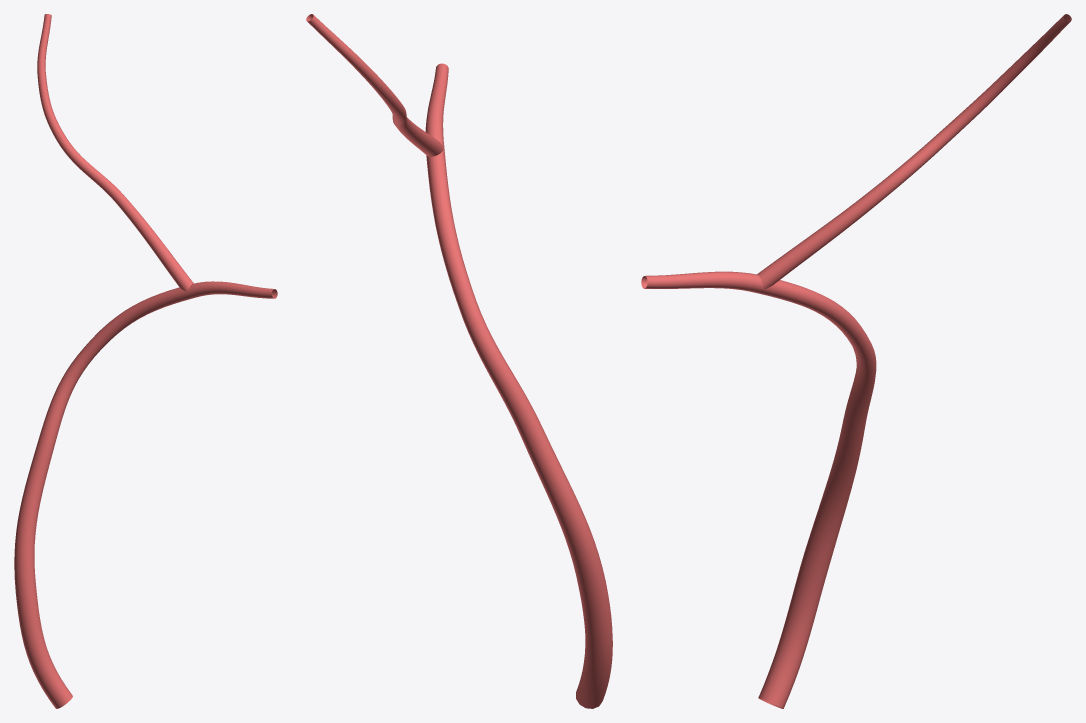
Rendered from Superficial_branch_of_transverse_cervical_artery.r_BezierCurve..glb.
3 views of the same model, side by side, from view 1: azimuth 30°, elevation 25°; view 2: azimuth 150°, elevation 25°; view 3: azimuth 270°, elevation 25° (orthographic). The views are drawn at different scales.
Parts seen in each view (by area): view 1: Superficial_branch_of_transverse_cervical_artery.r_BezierCur; view 2: Superficial_branch_of_transverse_cervical_artery.r_BezierCur; view 3: Superficial_branch_of_transverse_cervical_artery.r_BezierCur.
Boxes of the visible parts, bbox=[...] form: Superficial_branch_of_transverse_cervical_artery.r_BezierCur: bbox=[14, 14, 277, 708]; Superficial_branch_of_transverse_cervical_artery.r_BezierCur: bbox=[306, 14, 612, 708]; Superficial_branch_of_transverse_cervical_artery.r_BezierCur: bbox=[641, 14, 1071, 708].
Size of the model in its own units: 0.0157 by 0.045 by 0.0232.
